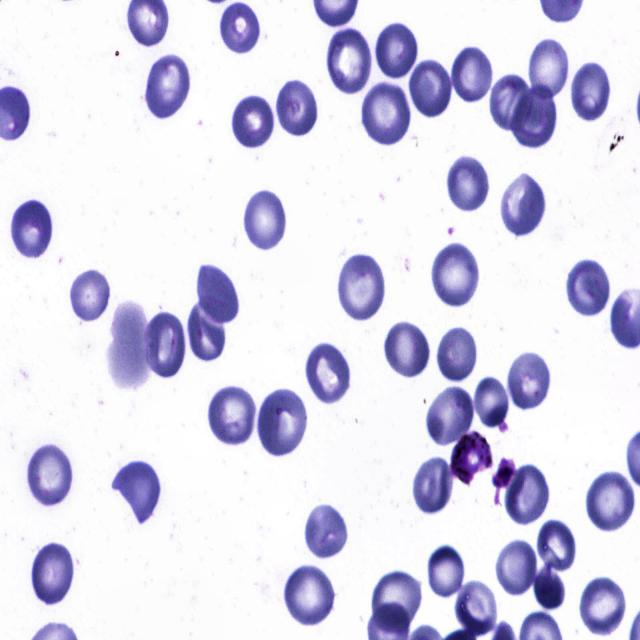difficult: (450, 429, 494, 484)
red blood cell: (428, 237, 481, 311), (108, 300, 152, 389), (281, 561, 338, 629), (337, 250, 389, 322), (255, 388, 308, 456), (143, 52, 194, 122), (508, 82, 559, 151), (425, 382, 476, 449), (584, 468, 637, 532), (360, 80, 412, 145), (576, 574, 629, 637), (30, 537, 77, 608), (372, 568, 424, 632), (25, 444, 76, 509), (206, 383, 258, 446), (499, 171, 548, 237), (325, 29, 374, 95), (114, 459, 164, 522), (195, 262, 243, 326), (526, 33, 569, 104), (144, 307, 184, 382), (503, 464, 551, 526), (506, 350, 554, 411), (384, 318, 431, 380), (566, 256, 612, 319), (306, 343, 352, 405), (8, 200, 54, 262), (406, 58, 454, 117), (276, 77, 320, 140), (489, 70, 532, 134), (569, 61, 613, 123), (376, 18, 420, 80), (304, 502, 351, 560), (230, 92, 276, 150), (243, 190, 288, 249), (186, 297, 226, 363), (67, 265, 112, 323), (451, 43, 493, 105), (412, 453, 456, 512), (446, 154, 490, 212), (494, 537, 536, 595), (438, 325, 478, 383), (536, 519, 578, 574), (456, 581, 497, 637), (220, 2, 260, 56), (426, 543, 465, 597), (472, 376, 510, 429), (533, 566, 566, 611)
